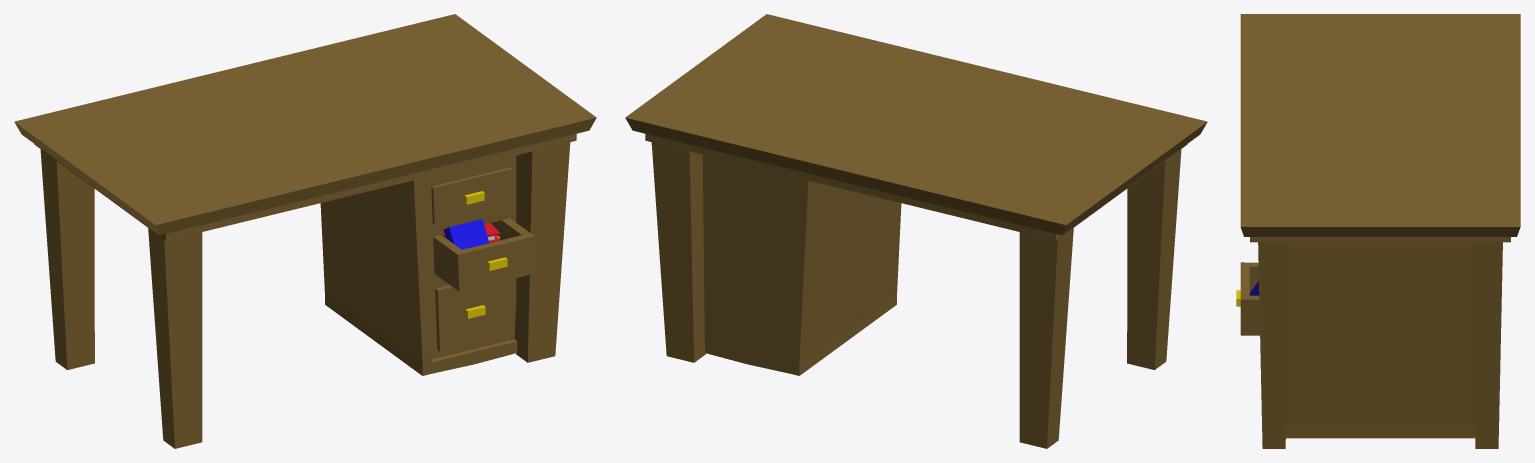
File: table.glb
3 renders of one model, left to right at view 1: azimuth 30°, elevation 25°; view 2: azimuth 150°, elevation 25°; view 3: azimuth 270°, elevation 25°, orthographic.
Parts seen in each view (by area): view 1: Cube.002_2, Cube.001_3; view 2: Cube.002_2; view 3: Cube.002_2.
Boxes of the visible parts, <box> form: Cube.002_2: <box>14,14,596,448</box>; Cube.001_3: <box>442,219,499,249</box>; Cube.002_2: <box>625,14,1207,448</box>; Cube.002_2: <box>1236,14,1520,448</box>.
Bounding box in the file's own units: 6.54 × 3.39 × 3.69.
